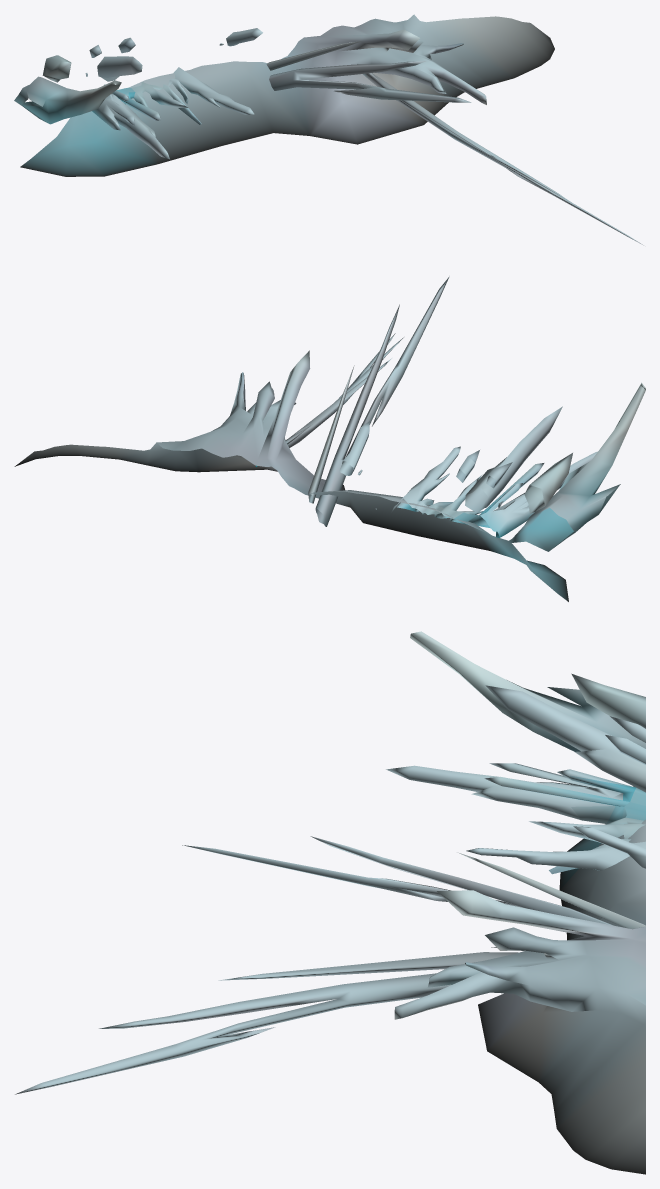
The picture shows the model from 3 angles, top to bottom: view 1: azimuth 30°, elevation 25°; view 2: azimuth 150°, elevation 25°; view 3: azimuth 270°, elevation 25°; orthographic projection. The views are drawn at different scales.
Parts seen in each view (by area): view 1: G:\FFXIV-MapTools\exports\s1f2\bg\ffxiv\sea_s1\fld\s1f2\bgpl (×3); view 2: G:\FFXIV-MapTools\exports\s1f2\bg\ffxiv\sea_s1\fld\s1f2\bgpl (×3); view 3: G:\FFXIV-MapTools\exports\s1f2\bg\ffxiv\sea_s1\fld\s1f2\bgpl (×3).
Part boxes in pixels (box(x1,y1,x2,y2)): G:\FFXIV-MapTools\exports\s1f2\bg\ffxiv\sea_s1\fld\s1f2\bgpl (×3): box(14, 14, 643, 245); G:\FFXIV-MapTools\exports\s1f2\bg\ffxiv\sea_s1\fld\s1f2\bgpl (×3): box(14, 276, 645, 601); G:\FFXIV-MapTools\exports\s1f2\bg\ffxiv\sea_s1\fld\s1f2\bgpl (×3): box(15, 631, 645, 1174).
Size of the model in its own units: 125 by 33.29 by 91.98.
